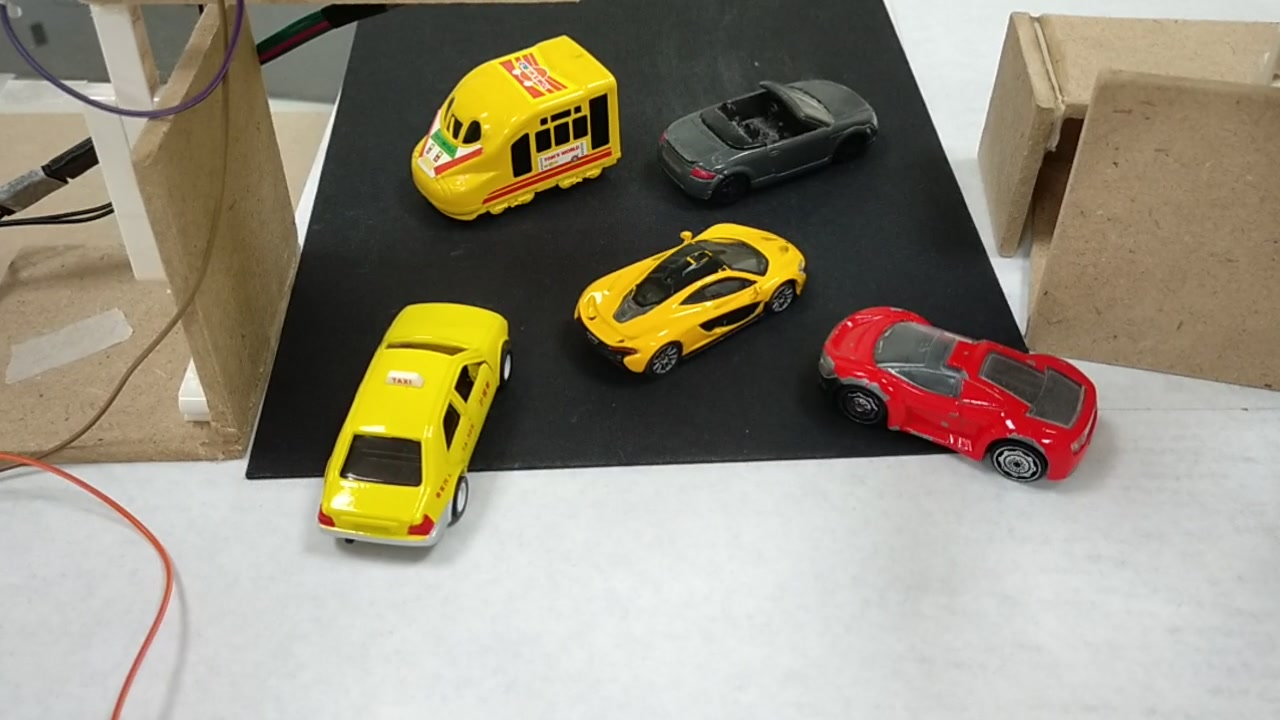car: (812, 303, 1101, 489), (312, 319, 524, 548), (573, 227, 821, 370), (656, 63, 882, 194)
